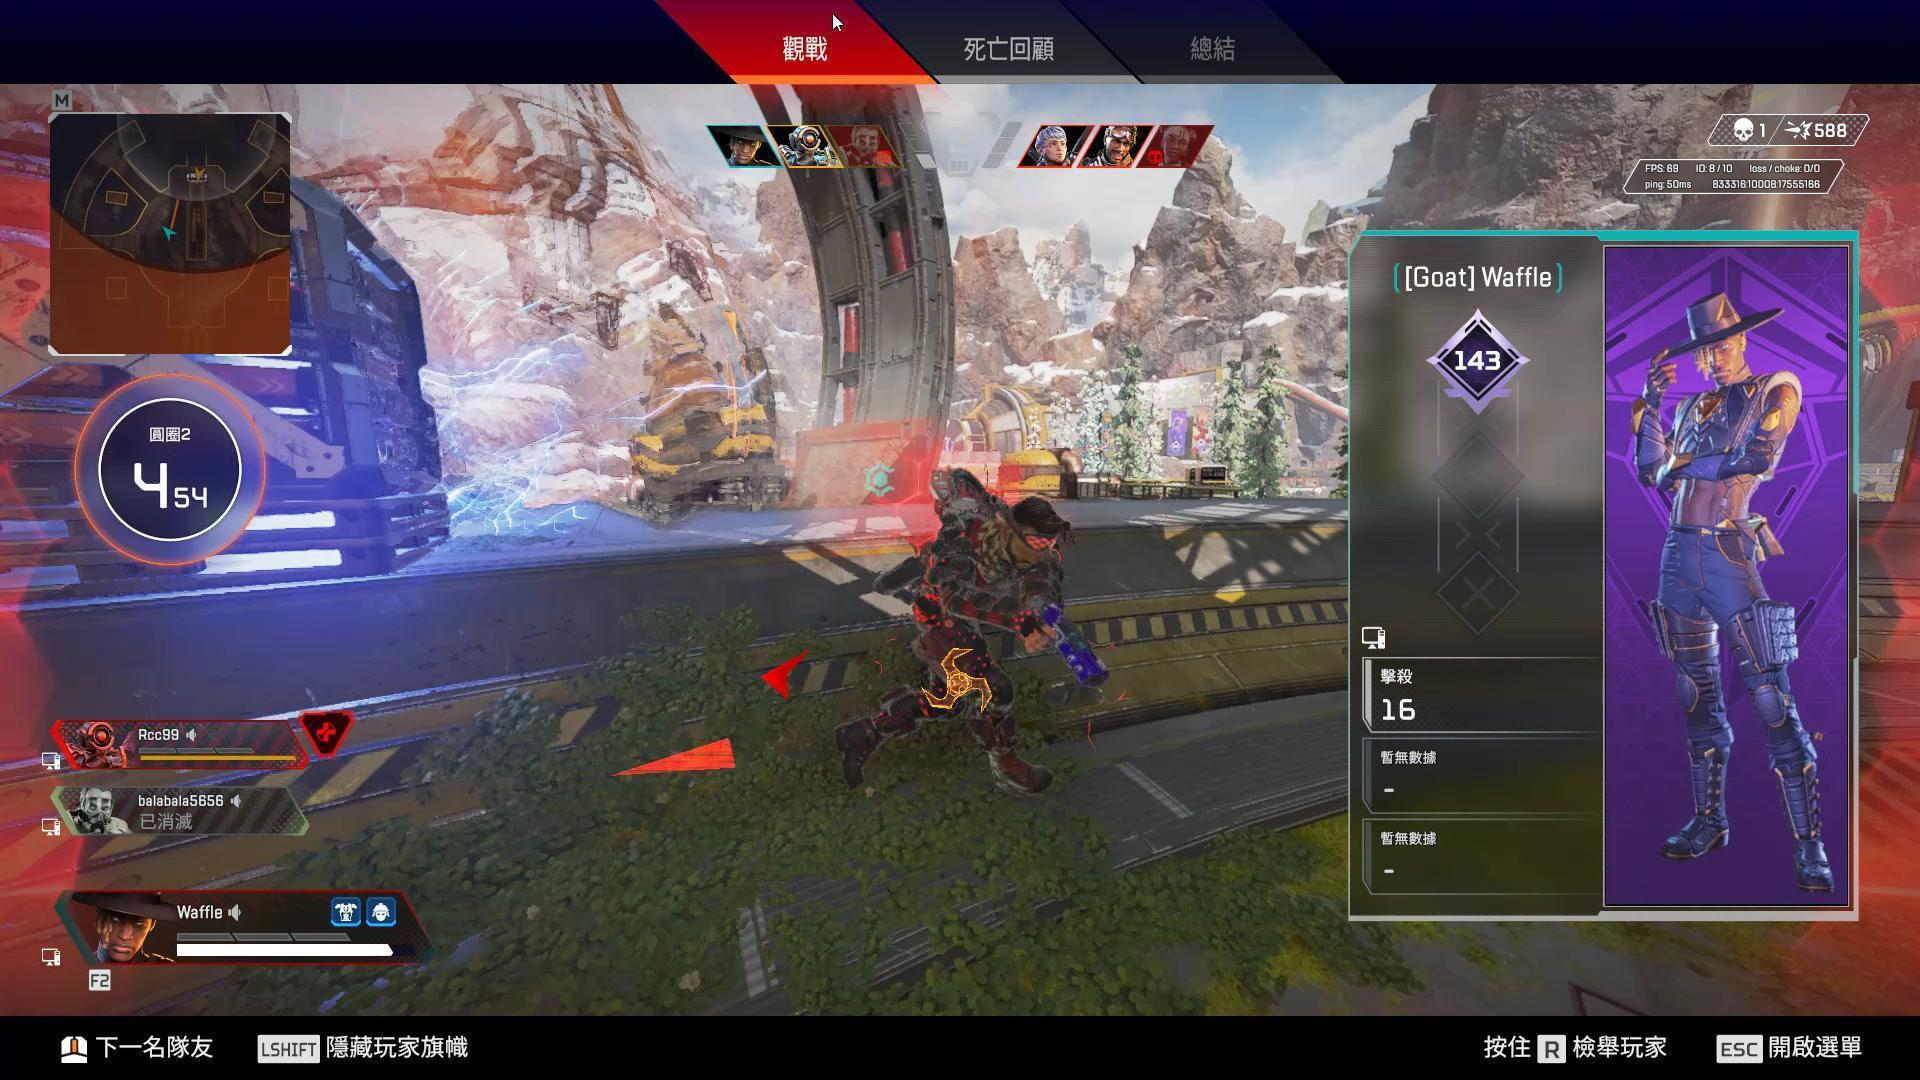avatar: (906, 492, 1066, 798)
